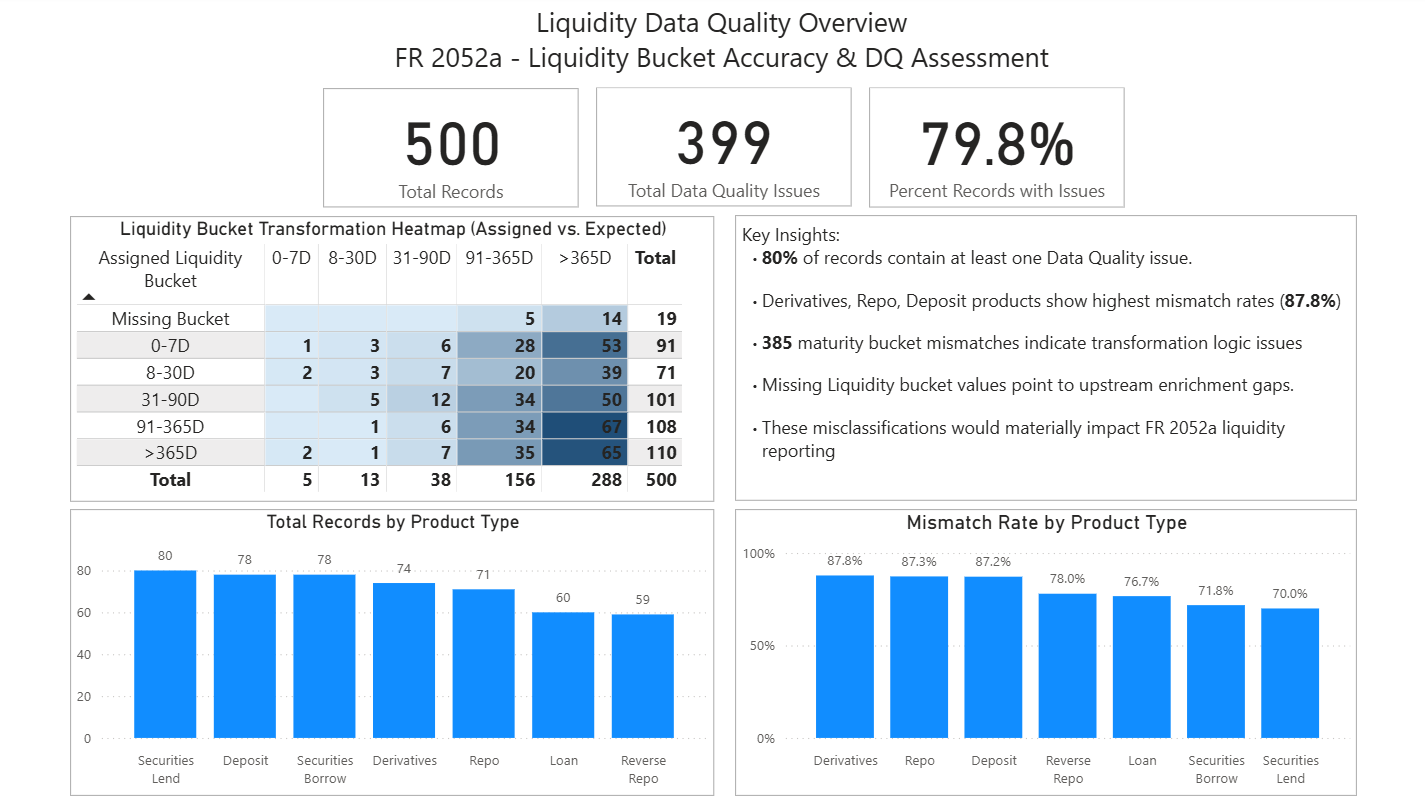

What the dashboard file says about the page in this screenshot:
{"tool":"powerbi","page":{"name":"Executive Summary","canvas":[1280,720],"ordinal":0},"visuals":[{"type":"clusteredColumnChart","title":"Mismatch Rate by Product Type","fields":{"Category":["liquidity_with_dq_flags.ProductType"],"Y":["liquidity_with_dq_flags.DQ_MismatchRate"]},"box":[659.1,459.4,557,257],"z":0},{"type":"clusteredColumnChart","title":"Total Records by Product Type","fields":{"Category":["liquidity_with_dq_flags.ProductType"],"Y":["CountNonNull(liquidity_with_dq_flags.ProductType)"]},"box":[63.6,459.4,576.7,257],"z":1000},{"type":"card","fields":{"Values":["liquidity_with_dq_flags.Total_Records"]},"box":[290.1,82.4,229.3,107.5],"z":2000},{"type":"card","fields":{"Values":["liquidity_with_dq_flags.Count_DQ_Issues"]},"box":[534.6,81.5,229.3,107.5],"z":3000},{"type":"pivotTable","title":"Liquidity Bucket Transformation Heatmap (Assigned vs. Expected)","fields":{"Columns":["liquidity_with_dq_flags.ExpectedBucket"],"Values":["CountNonNull(liquidity_with_dq_flags.ProductType)"],"Rows":["liquidity_with_dq_flags.LiquidityBucket_Label"]},"box":[63.6,197,576.7,256.1],"z":4000},{"type":"card","fields":{"Values":["liquidity_with_dq_flags.Percent_DQ_Issues"]},"box":[779.1,81.5,229.3,108.4],"z":5000},{"type":"textbox","box":[23.2,1,1247.7,80.6],"z":6000},{"type":"textbox","box":[659.1,196.1,557,256.1],"z":7000}]}

Visuals, with their boxes in screenshot pixels (x1, y1, x2, y2), scaled from the page's 1280x720 canvas onto the 1425x799 screenshot:
"Mismatch Rate by Product Type" clusteredColumnChart: <region>734, 510, 1354, 795</region>
"Total Records by Product Type" clusteredColumnChart: <region>71, 510, 713, 795</region>
card - liquidity_with_dq_flags.Total_Records: <region>323, 91, 578, 211</region>
card - liquidity_with_dq_flags.Count_DQ_Issues: <region>595, 90, 850, 210</region>
"Liquidity Bucket Transformation Heatmap (Assigned vs. Expected)" pivotTable: <region>71, 219, 713, 503</region>
card - liquidity_with_dq_flags.Percent_DQ_Issues: <region>867, 90, 1123, 211</region>
textbox: <region>26, 1, 1415, 91</region>
textbox: <region>734, 218, 1354, 502</region>
